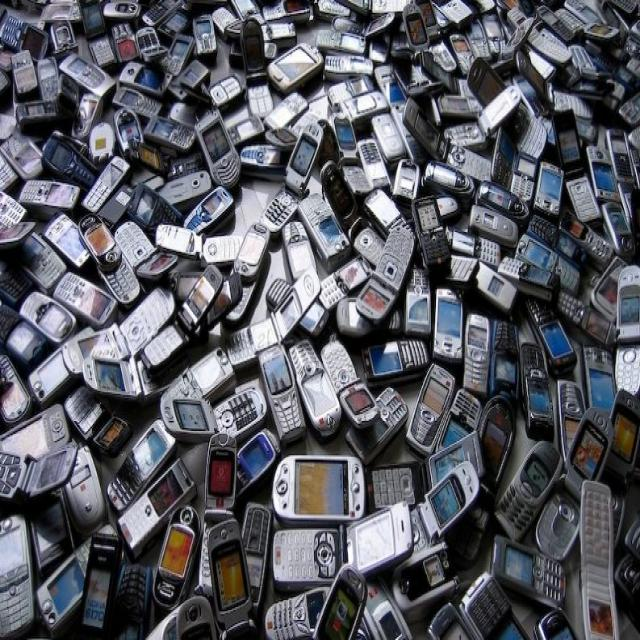hazard: (0, 22, 638, 638)
